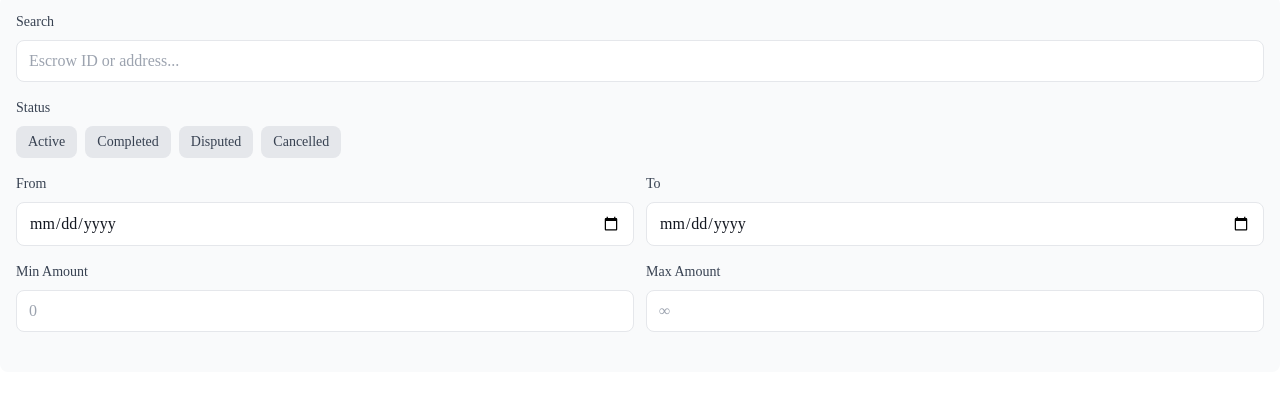
Scenario: EscrowFilters › clears all filters
Type "test" into the field with test id "search-input" at (640, 61), box [16,40,1264,82]
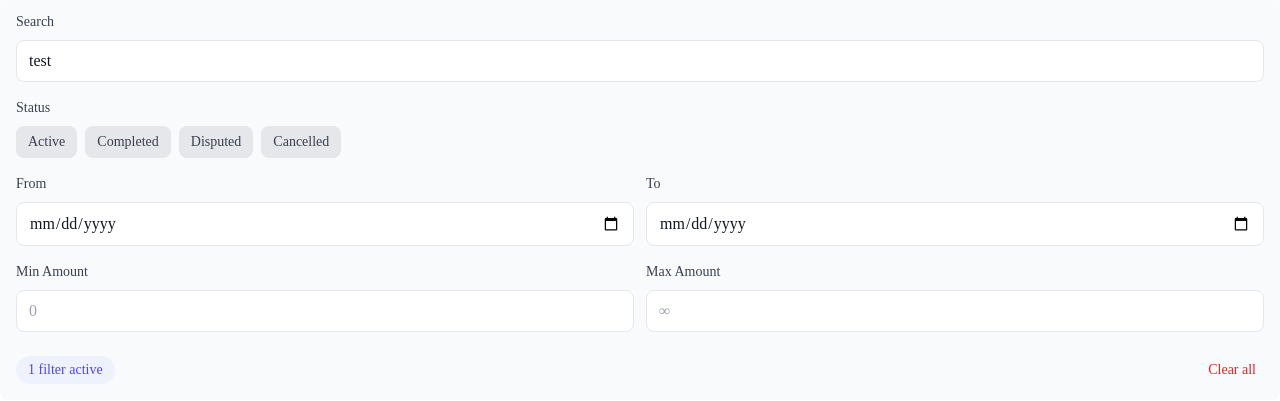
Click the button with test id "status-Active" at (47, 142), box [16,126,77,158]
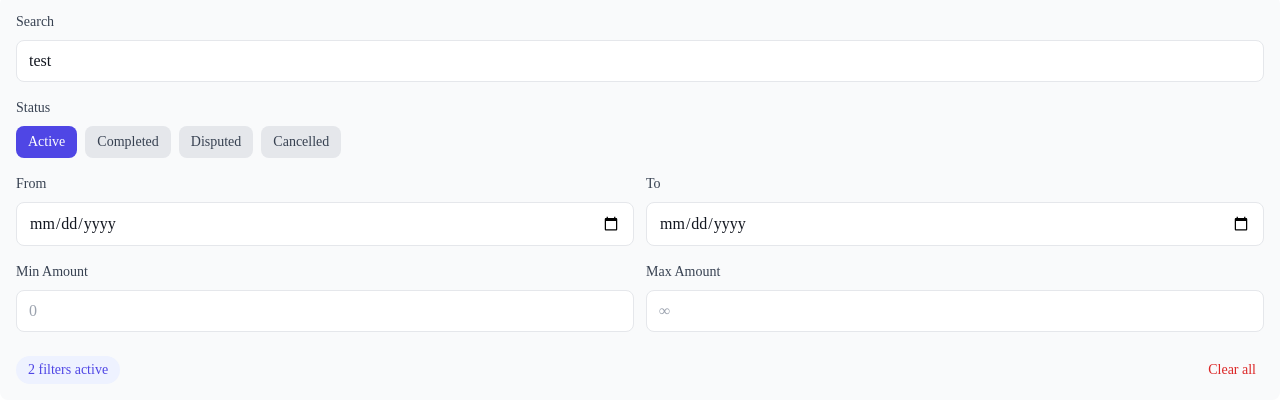
Result: the button with test id "clear-filters" is shown
Click the button with test id "clear-filters" at (1232, 370), box [1200,360,1264,380]
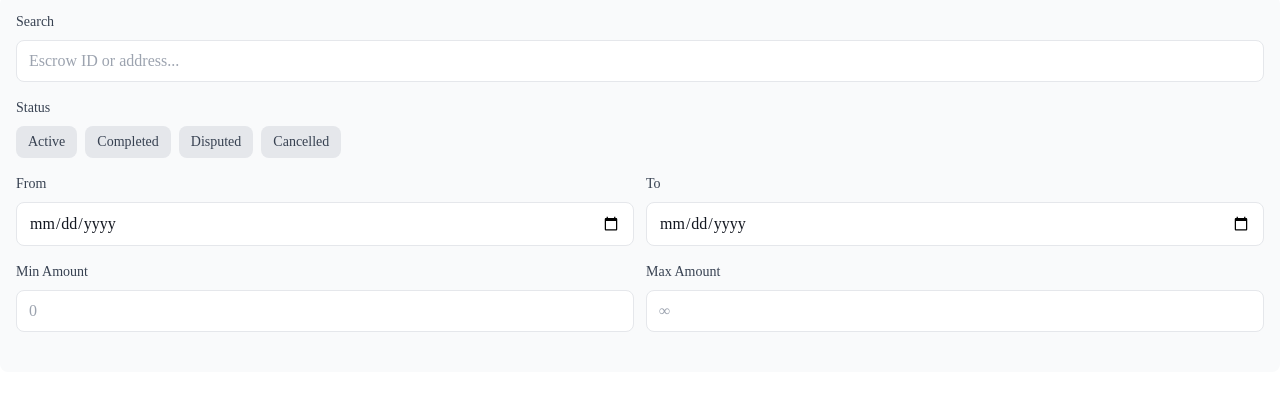
Result: the field with test id "search-input" is empty at [16,40,1264,82]
